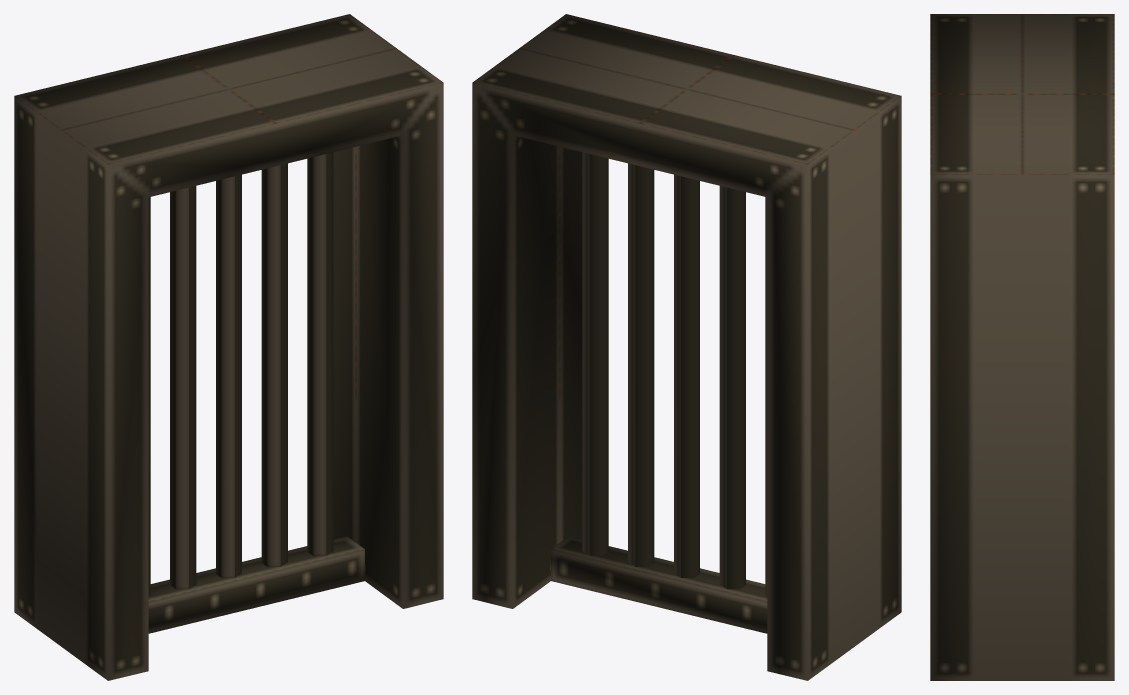
File: ShortDoor.fbx
3 renders of one model, left to right at view 1: azimuth 30°, elevation 25°; view 2: azimuth 150°, elevation 25°; view 3: azimuth 270°, elevation 25°, orthographic.
Visible parts, largest first — view 1: DoorFrame, ShortDoor; view 2: DoorFrame, ShortDoor; view 3: DoorFrame.
Part boxes in pixels (x1,y1,x2,y2): DoorFrame: (14,14,443,680); ShortDoor: (148,152,364,633); DoorFrame: (472,14,901,680); ShortDoor: (551,152,767,633); DoorFrame: (930,14,1114,680).
Bounding box in the file's own units: 206 × 303 × 100.
